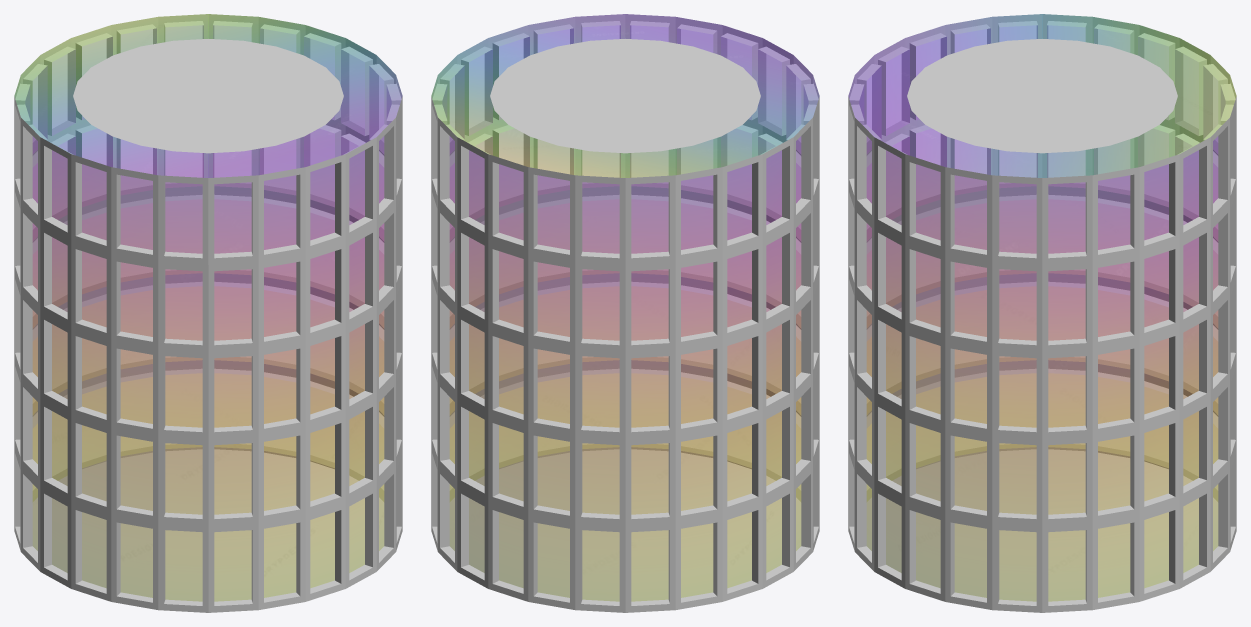
The model's file is spectra.glb.
3 renders of one model, left to right at view 1: azimuth 30°, elevation 25°; view 2: azimuth 150°, elevation 25°; view 3: azimuth 270°, elevation 25°, orthographic.
Visible parts, largest first — view 1: Cylinder; view 2: Cylinder; view 3: Cylinder.
Part boxes in pixels (bbox=[...]): Cylinder: bbox=[14, 14, 402, 612]; Cylinder: bbox=[431, 14, 819, 612]; Cylinder: bbox=[848, 14, 1236, 612].
Size of the model in its own units: 1.82 by 2.25 by 1.82.
Materials: 2 (1 with a texture image).
